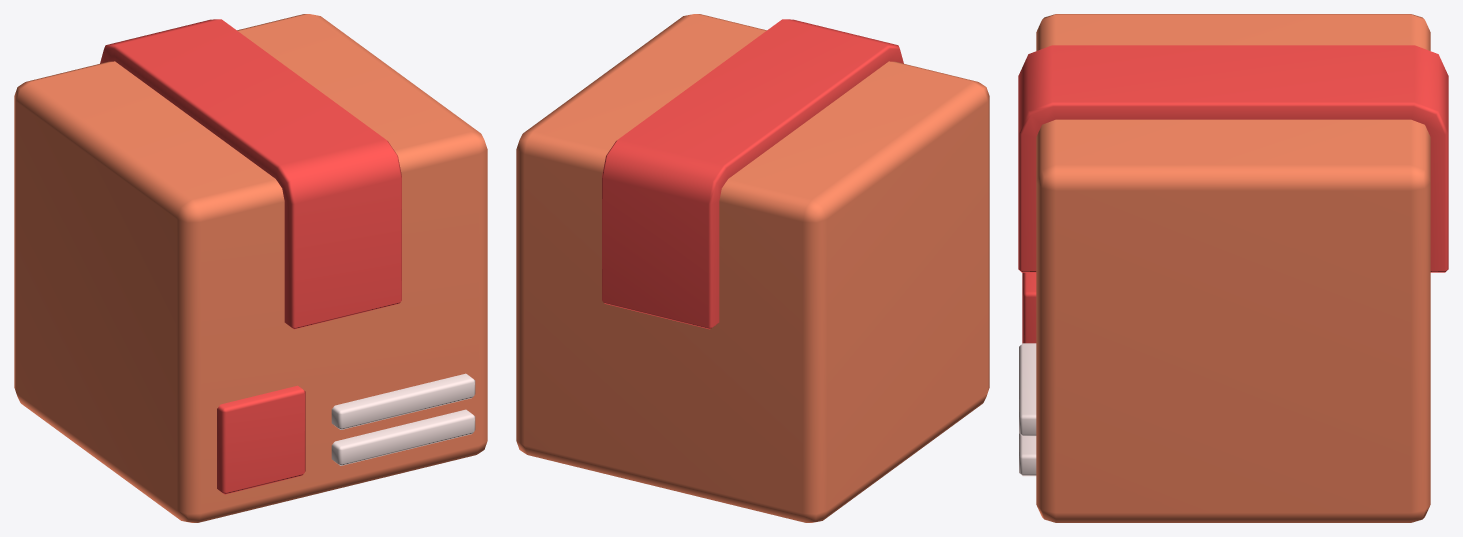
The model's file is Public_6_Box_10.glb.
The picture shows the model from 3 angles, left to right: view 1: azimuth 30°, elevation 25°; view 2: azimuth 150°, elevation 25°; view 3: azimuth 270°, elevation 25°; orthographic projection. The views are drawn at different scales.
Visible parts, largest first — view 1: Public_6_Box_10; view 2: Public_6_Box_10; view 3: Public_6_Box_10.
Part boxes in pixels (x1=…): Public_6_Box_10: x1=14, y1=14, x2=487, y2=522; Public_6_Box_10: x1=516, y1=14, x2=989, y2=522; Public_6_Box_10: x1=1018, y1=14, x2=1448, y2=522.
Bounding box in the file's own units: 1.62 × 1.69 × 1.76.
Materials: 1 (1 with a texture image).
